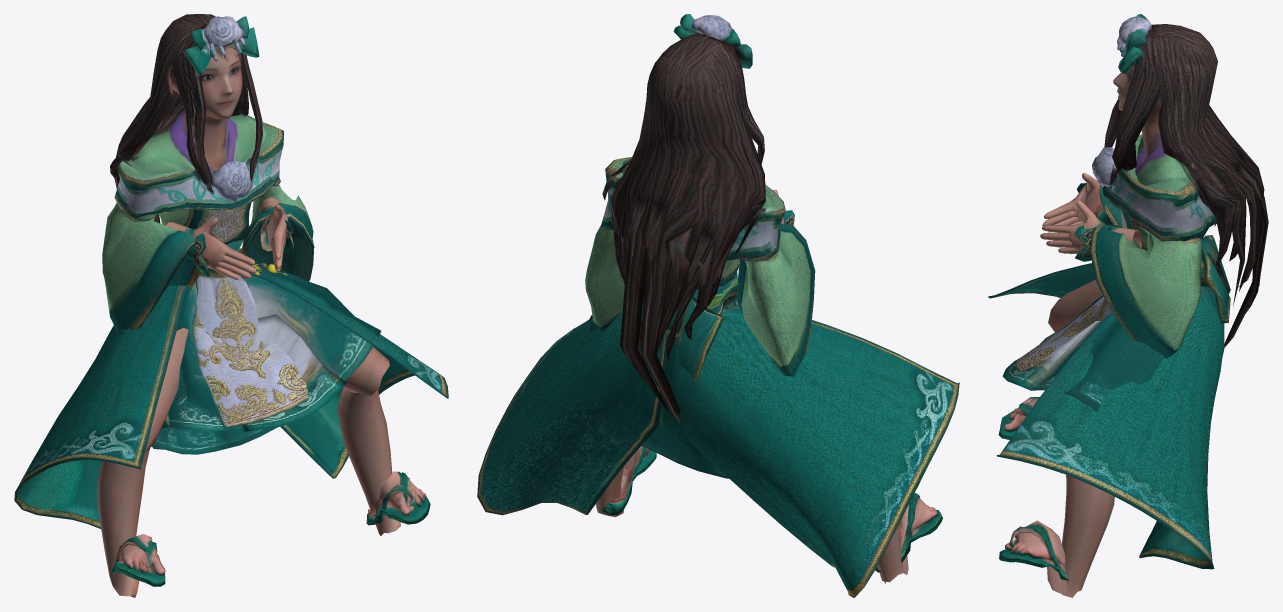
The model's file is xiao-qiao.glb.
3 renders of one model, left to right at view 1: azimuth 30°, elevation 25°; view 2: azimuth 150°, elevation 25°; view 3: azimuth 270°, elevation 25°, orthographic. The views are drawn at different scales.
Bounding box in the file's own units: 1.4 × 1.89 × 0.9314.
Materials: 1 (1 with a texture image).
